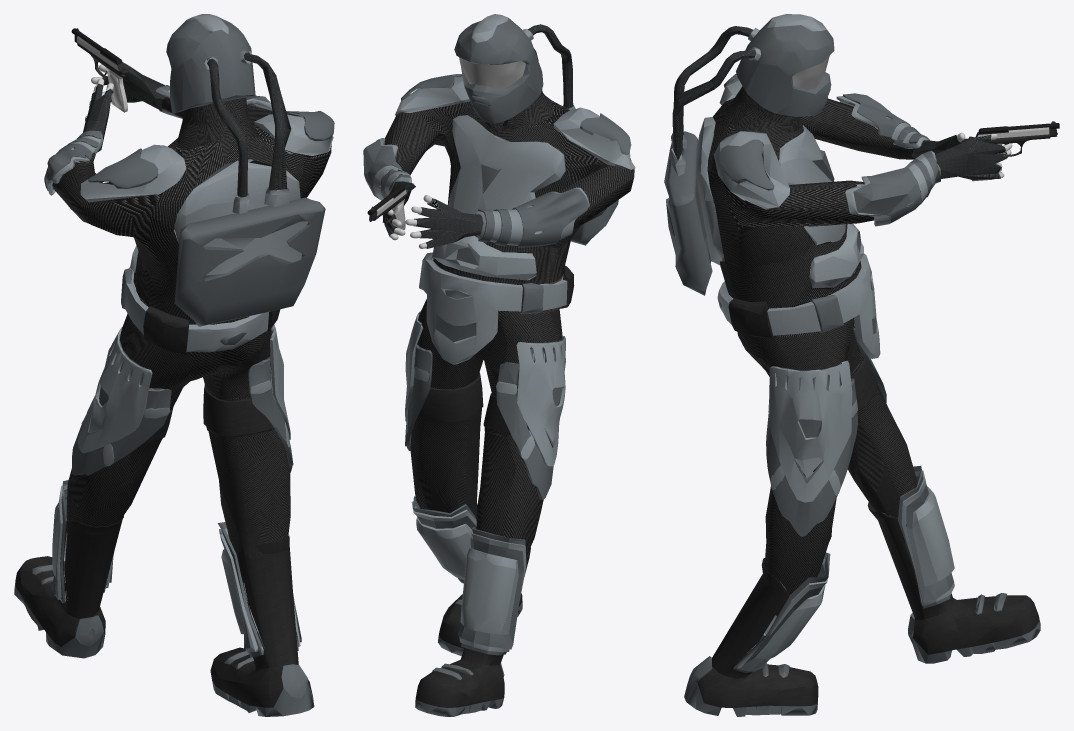
Rendered from AndarPistola.0014.obj.
3 views of the same model, side by side, from view 1: azimuth 30°, elevation 25°; view 2: azimuth 150°, elevation 25°; view 3: azimuth 270°, elevation 25° (orthographic). The views are drawn at different scales.
Visible parts, largest first — view 1: personajeskefix:personaje:extrudedSurface2 polySurface122, personajeskefix:personaje:bota1 polySurface122, personajeskefix:personaje:PANTALON polySurface122, personajeskefix:personaje:CAMISETABUENA polySurface122, personajeskefix:personaje:pPipe4 polySurface122, personajeskefix:personaje:pCube4 polySurface122, personajeskefix:personaje:cosoarmdaurapierna1 polySurface122, personajeskefix:personaje:cinturon polySurface122, personajeskefix:personaje:polySurface6 polySurface122, personajeskefix:personaje:armadbota1 polySurface122, personajeskefix:personaje:HOMBRO2 polySurface122, pistola:Cylinder001 polySurface122 (+5 smaller); view 2: personajeskefix:personaje:pPipe4 polySurface122, personajeskefix:personaje:PANTALON polySurface122, personajeskefix:personaje:CAMISETABUENA polySurface122, personajeskefix:personaje:cinturon polySurface122, personajeskefix:personaje:armadbota1 polySurface122, personajeskefix:personaje:pCube4 polySurface122, personajeskefix:personaje:extrudedSurface2 polySurface122, personajeskefix:personaje:bota1 polySurface122, personajeskefix:personaje:cosoarmdaurapierna1 polySurface122, personajeskefix:personaje:polySurface2 polySurface122, personajeskefix:personaje:polySurface6 polySurface122, personajeskefix:personaje:gafas polySurface122 (+8 smaller); view 3: personajeskefix:personaje:CAMISETABUENA polySurface122, personajeskefix:personaje:bota1 polySurface122, personajeskefix:personaje:pPipe4 polySurface122, personajeskefix:personaje:extrudedSurface2 polySurface122, personajeskefix:personaje:PANTALON polySurface122, personajeskefix:personaje:pCube4 polySurface122, personajeskefix:personaje:cinturon polySurface122, personajeskefix:personaje:armadbota1 polySurface122, personajeskefix:personaje:cosoarmadurapierna2 polySurface122, personajeskefix:personaje:hombro1 polySurface122, pistola:Cylinder001 polySurface122, personajeskefix:personaje:polySurface2 polySurface122 (+5 smaller).
Part boxes in pixels (x1,y1,x2,y2): personajeskefix:personaje:extrudedSurface2 polySurface122: [166, 14, 325, 326]; personajeskefix:personaje:bota1 polySurface122: [14, 516, 314, 716]; personajeskefix:personaje:PANTALON polySurface122: [66, 290, 290, 582]; personajeskefix:personaje:CAMISETABUENA polySurface122: [52, 97, 331, 352]; personajeskefix:personaje:pPipe4 polySurface122: [74, 62, 333, 272]; personajeskefix:personaje:pCube4 polySurface122: [52, 316, 301, 657]; personajeskefix:personaje:cosoarmdaurapierna1 polySurface122: [77, 327, 169, 466]; personajeskefix:personaje:cinturon polySurface122: [121, 266, 280, 354]; personajeskefix:personaje:polySurface6 polySurface122: [142, 385, 274, 444]; personajeskefix:personaje:armadbota1 polySurface122: [52, 484, 300, 653]; personajeskefix:personaje:HOMBRO2 polySurface122: [88, 148, 158, 188]; pistola:Cylinder001 polySurface122: [71, 28, 127, 112]; personajeskefix:personaje:pPipe4 polySurface122: [363, 76, 635, 280]; personajeskefix:personaje:PANTALON polySurface122: [410, 277, 562, 556]; personajeskefix:personaje:CAMISETABUENA polySurface122: [379, 63, 634, 313]; personajeskefix:personaje:cinturon polySurface122: [419, 252, 574, 364]; personajeskefix:personaje:armadbota1 polySurface122: [411, 501, 526, 652]; personajeskefix:personaje:pCube4 polySurface122: [405, 311, 562, 655]; personajeskefix:personaje:extrudedSurface2 polySurface122: [454, 14, 618, 245]; personajeskefix:personaje:bota1 polySurface122: [415, 502, 530, 716]; personajeskefix:personaje:cosoarmdaurapierna1 polySurface122: [496, 336, 565, 466]; personajeskefix:personaje:polySurface2 polySurface122: [478, 188, 588, 247]; personajeskefix:personaje:polySurface6 polySurface122: [418, 372, 510, 432]; personajeskefix:personaje:gafas polySurface122: [459, 57, 525, 89]; personajeskefix:personaje:CAMISETABUENA polySurface122: [707, 86, 920, 337]; personajeskefix:personaje:bota1 polySurface122: [684, 502, 1040, 716]; personajeskefix:personaje:pPipe4 polySurface122: [696, 78, 1007, 287]; personajeskefix:personaje:extrudedSurface2 polySurface122: [664, 14, 834, 295]; personajeskefix:personaje:PANTALON polySurface122: [737, 277, 917, 615]; personajeskefix:personaje:pCube4 polySurface122: [733, 324, 953, 672]; personajeskefix:personaje:cinturon polySurface122: [717, 253, 880, 358]; personajeskefix:personaje:armadbota1 polySurface122: [737, 470, 954, 671]; personajeskefix:personaje:cosoarmadurapierna2 polySurface122: [766, 374, 857, 536]; personajeskefix:personaje:hombro1 polySurface122: [718, 139, 774, 190]; pistola:Cylinder001 polySurface122: [969, 121, 1059, 181]; personajeskefix:personaje:polySurface2 polySurface122: [843, 93, 929, 143].
Bounding box in the file's own units: 3.66 × 9.47 × 5.
